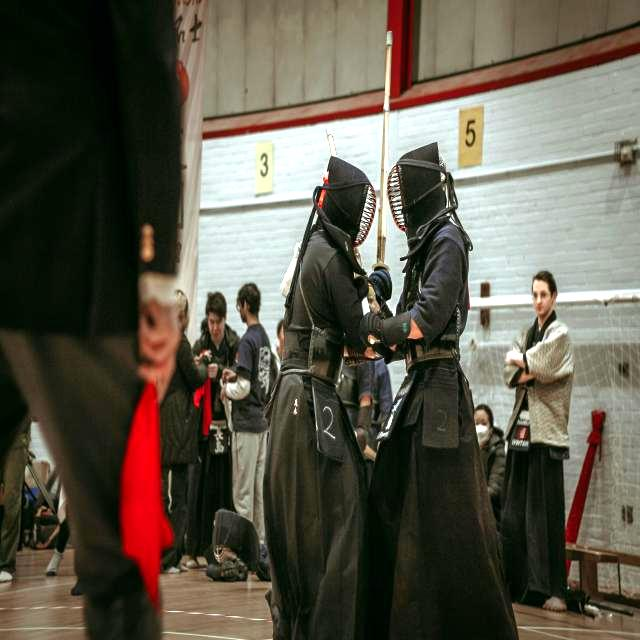no_hard_hat: (387, 142, 473, 261), (315, 156, 376, 279)
no_head_wear: (521, 270, 558, 360), (205, 292, 231, 350), (474, 404, 504, 450), (237, 282, 261, 315), (175, 290, 190, 339), (276, 319, 284, 328)
person: (358, 142, 518, 640), (374, 143, 518, 640), (264, 161, 400, 640), (0, 0, 181, 338), (501, 271, 574, 611), (228, 283, 278, 560), (193, 292, 240, 563), (164, 290, 202, 566), (474, 404, 505, 531)
